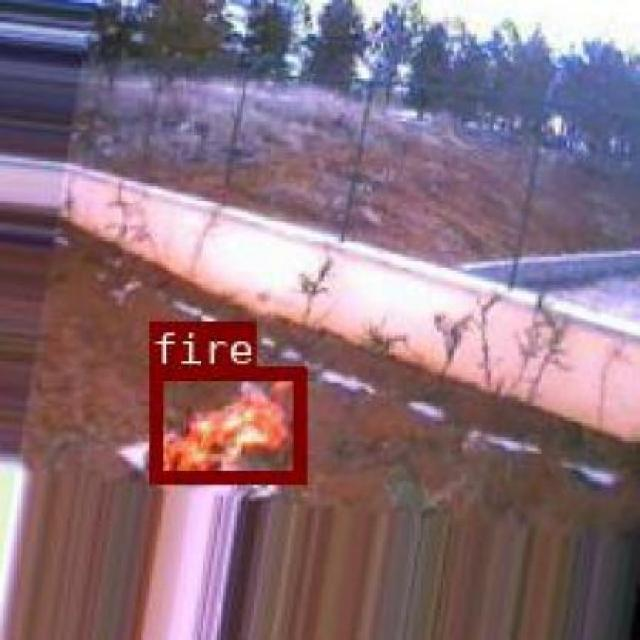Fire: (147, 364, 304, 480)
